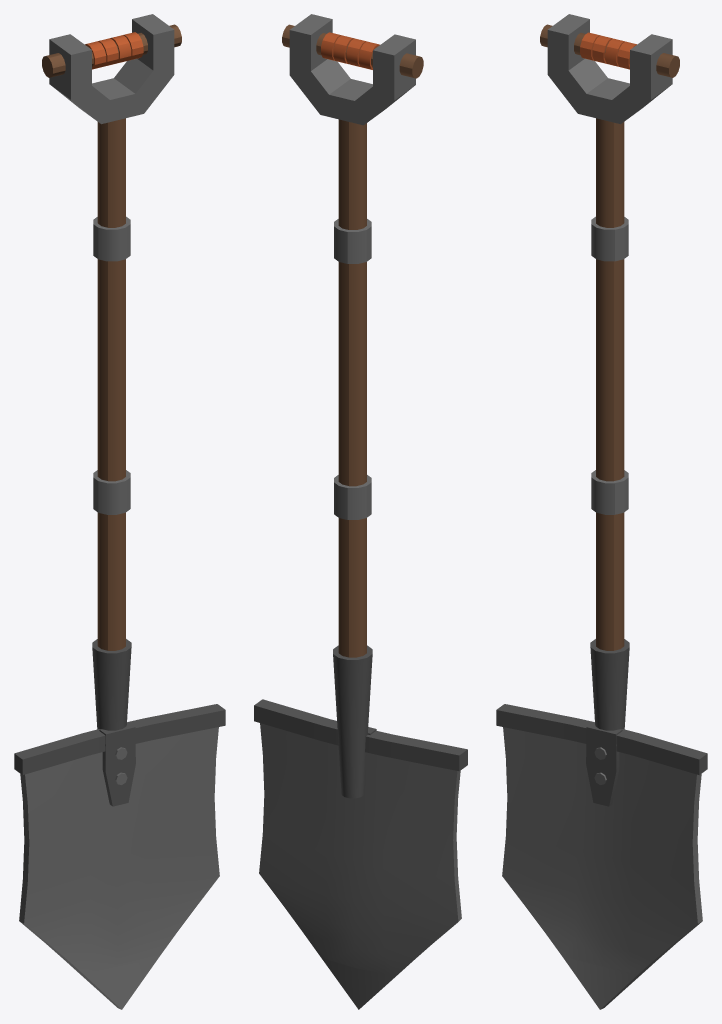
The model's file is Shovel_01.fbx.
The picture shows the model from 3 angles, left to right: view 1: azimuth 30°, elevation 25°; view 2: azimuth 150°, elevation 25°; view 3: azimuth 330°, elevation 25°; orthographic projection.
Visible parts, largest first — view 1: Shovel_01_LOD0; view 2: Shovel_01_LOD0; view 3: Shovel_01_LOD0.
Part boxes in pixels (box(x1,y1,x2,y2)): Shovel_01_LOD0: box(14, 14, 225, 1009); Shovel_01_LOD0: box(254, 14, 467, 1009); Shovel_01_LOD0: box(496, 14, 707, 1009).
Size of what is drawn, in the model's own units: 0.2759 by 1.26 by 0.0542.
